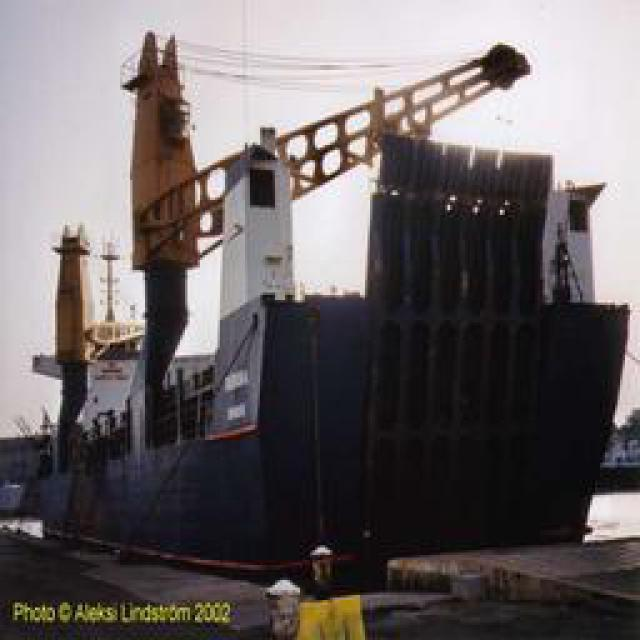Ship: (30, 21, 634, 577)
